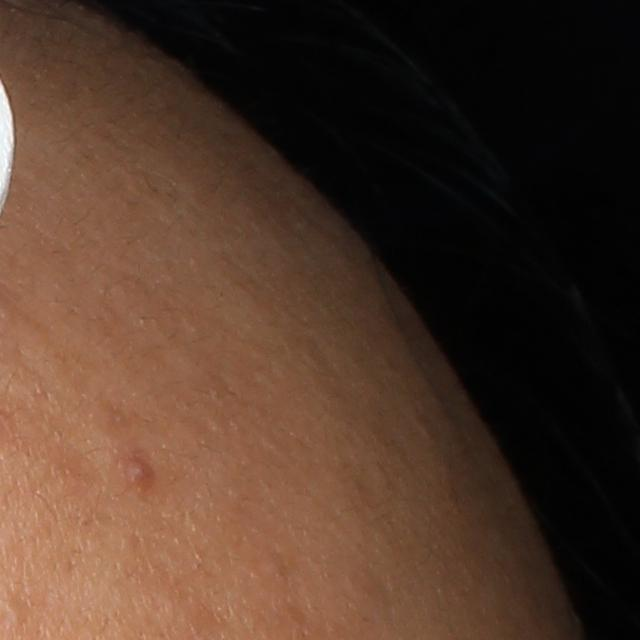comedo: (0, 593, 30, 628)
papule: (124, 458, 151, 493)
